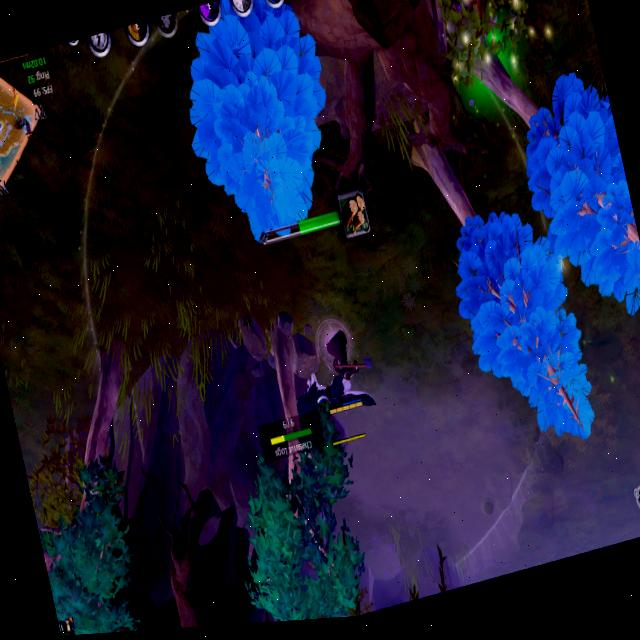red: (309, 304, 381, 419)
wisp caged: (396, 75, 624, 494), (445, 0, 640, 369), (188, 292, 394, 627), (1, 316, 197, 640), (159, 0, 372, 278)
